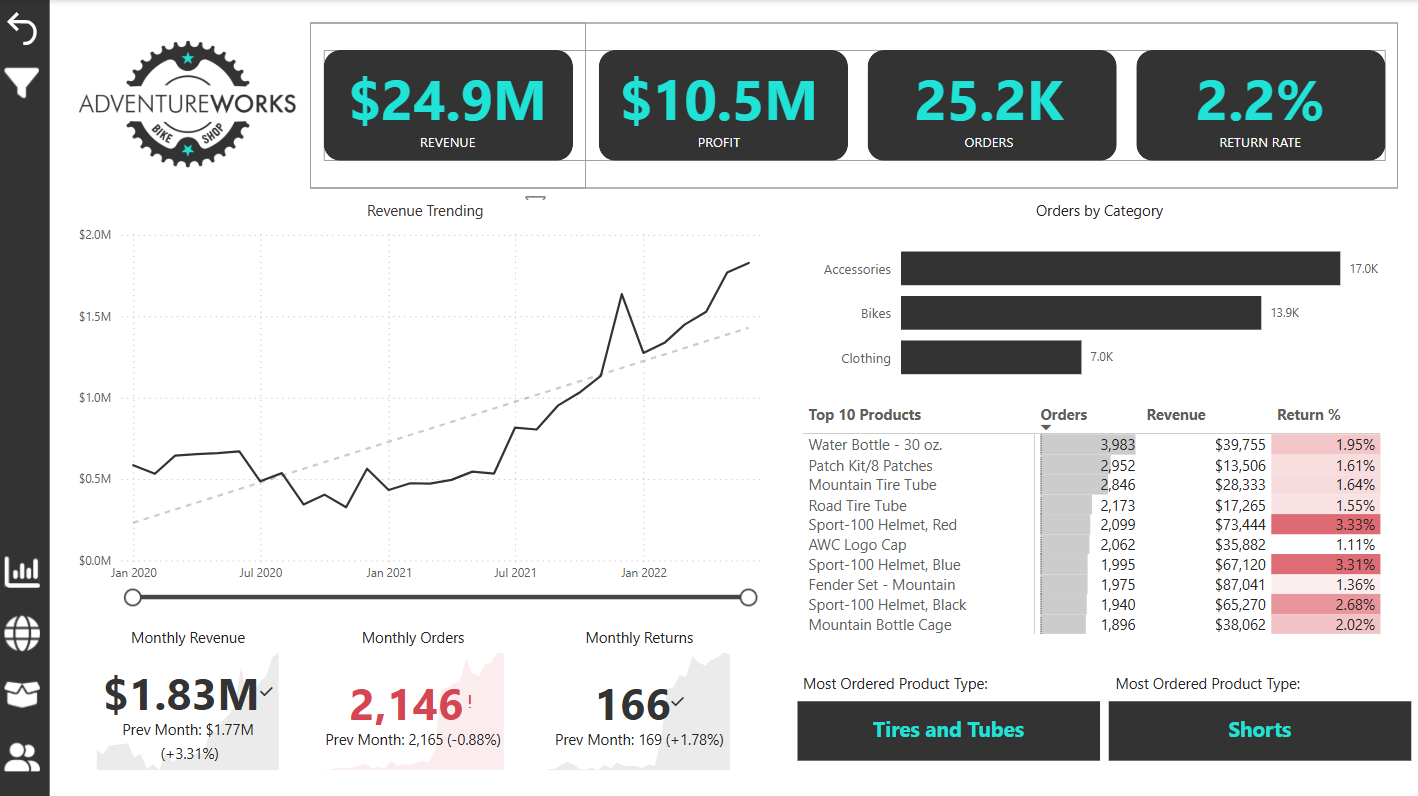

The page's visual inventory and layout, read from the dashboard file:
{"tool":"powerbi","page":{"name":"Exec Dashboard","canvas":[1280,720],"ordinal":0},"visuals":[{"type":"card","fields":{"Values":["Measure Table.Total Revenue"]},"box":[280,20,248.8,150],"z":0,"group":"g2"},{"type":"image","title":"AW Logo","box":[45,26.2,248.8,136.2],"z":0},{"type":"group","id":"g1","title":"KPI Backgrounds","box":[292.5,45,957.5,100],"z":0,"group":"g3"},{"type":"shape","box":[292.5,45,225,100],"z":0,"group":"g1"},{"type":"actionButton","box":[0.3,496.5,45.2,40.4],"z":0,"group":"g4"},{"type":"shape","title":"Left Nav Background","box":[0,0,45,720],"z":1000},{"type":"group","id":"g2","title":"KPI Values","box":[280,20,981.2,150],"z":1000,"group":"g3"},{"type":"card","fields":{"Values":["Measure Table.Return Rate"]},"box":[1012.5,20,248.8,150],"z":1000,"group":"g2"},{"type":"shape","box":[540,45,225,100],"z":1000,"group":"g1"},{"type":"actionButton","box":[0.3,607.4,45.2,40.4],"z":1000,"group":"g4"},{"type":"group","id":"g3","title":"KPIs","box":[280,20,981.2,150],"z":2000},{"type":"card","fields":{"Values":["Measure Table.Total Orders"]},"box":[768.3,20,248.8,150],"z":2000,"group":"g2"},{"type":"shape","box":[782.5,45,225,100],"z":2000,"group":"g1"},{"type":"actionButton","box":[0.3,662.8,45.2,40.4],"z":2000,"group":"g4"},{"type":"card","fields":{"Values":["Measure Table.Total Profit"]},"box":[524.2,20,248.8,150],"z":3000,"group":"g2"},{"type":"shape","box":[1025,45,225,100],"z":3000,"group":"g1"},{"type":"actionButton","box":[0.3,551.9,45.2,40.4],"z":3000,"group":"g4"},{"type":"kpi","title":"Monthly Revenue","fields":{"Indicator":["Measure Table.Total Revenue"],"TrendLine":["Calendar Lookup.Date Hierarchy.Start of Month"],"Goal":["Measure Table.Previous Month Revenue"]},"box":[82.2,565.6,174.6,134.2],"z":3000},{"type":"kpi","title":"Monthly Orders","fields":{"TrendLine":["Calendar Lookup.Date Hierarchy.Start of Month"],"Indicator":["Measure Table.Total Orders"],"Goal":["Measure Table.Previous Month Orders"]},"box":[285.7,565.6,174.6,134.2],"z":4000},{"type":"kpi","title":"Monthly Returns","fields":{"TrendLine":["Calendar Lookup.Date Hierarchy.Start of Month"],"Indicator":["Measure Table.Total Returns"],"Goal":["Measure Table.Previous Month Returns"]},"box":[489.1,565.6,174.6,134.2],"z":5000},{"type":"clusteredBarChart","title":"Orders by Category","fields":{"Category":["Product Categories Lookup.CategoryName"],"Y":["Measure Table.Total Orders"]},"box":[732.5,180,517.5,180],"z":6000},{"type":"pivotTable","fields":{"Values":["Measure Table.Total Orders","Measure Table.Total Revenue","Measure Table.Return Rate"],"Rows":["Product Lookup.ProductName"]},"box":[719,359.5,541.7,222.6],"z":7000},{"type":"card","fields":{"Values":["Min(Product Subcategories Lookup.SubcategoryName)"]},"box":[719,632.2,272.7,53.8],"z":8000},{"type":"textbox","box":[718.6,601.4,272.9,31.4],"z":9000},{"type":"card","fields":{"Values":["Min(Product Subcategories Lookup.SubcategoryName)"]},"box":[1000,632.4,272.7,53.8],"z":10000},{"type":"textbox","box":[1001.4,601.4,272.9,31.4],"z":11000},{"type":"lineChart","title":"Revenue Trending","fields":{"Y":["Measure Table.Total Revenue"],"Category":["Calendar Lookup.Year","Calendar Lookup.Start of Quarter Hierarchy.Start of Quarter","Calendar Lookup.Date Hierarchy.Start of Month"]},"box":[64.9,180.3,636.3,369.3],"z":12000},{"type":"actionButton","box":[0,6.1,45.2,40.4],"z":13000},{"type":"group","id":"g4","title":"Navigation button","box":[0.3,496.5,45.2,206.7],"z":14000},{"type":"actionButton","box":[0,55,45.2,39.1],"z":15000}]}

Visuals, with their boxes on the page's 1280x720 design canvas (x1, y1, x2, y2). These are canvas units, not pixel positions in the 1418x796 screenshot, which may show the page scaled, cropped or inside an application window:
card - Measure Table.Total Revenue: {"left": 280, "top": 20, "right": 529, "bottom": 170}
"AW Logo" image: {"left": 45, "top": 26, "right": 294, "bottom": 162}
"KPI Backgrounds" group: {"left": 292, "top": 45, "right": 1250, "bottom": 145}
shape: {"left": 292, "top": 45, "right": 518, "bottom": 145}
actionButton: {"left": 0, "top": 496, "right": 46, "bottom": 537}
"Left Nav Background" shape: {"left": 0, "top": 0, "right": 45, "bottom": 720}
"KPI Values" group: {"left": 280, "top": 20, "right": 1261, "bottom": 170}
card - Measure Table.Return Rate: {"left": 1012, "top": 20, "right": 1261, "bottom": 170}
shape: {"left": 540, "top": 45, "right": 765, "bottom": 145}
actionButton: {"left": 0, "top": 607, "right": 46, "bottom": 648}
"KPIs" group: {"left": 280, "top": 20, "right": 1261, "bottom": 170}
card - Measure Table.Total Orders: {"left": 768, "top": 20, "right": 1017, "bottom": 170}
shape: {"left": 782, "top": 45, "right": 1008, "bottom": 145}
actionButton: {"left": 0, "top": 663, "right": 46, "bottom": 703}
card - Measure Table.Total Profit: {"left": 524, "top": 20, "right": 773, "bottom": 170}
shape: {"left": 1025, "top": 45, "right": 1250, "bottom": 145}
actionButton: {"left": 0, "top": 552, "right": 46, "bottom": 592}
"Monthly Revenue" kpi: {"left": 82, "top": 566, "right": 257, "bottom": 700}
"Monthly Orders" kpi: {"left": 286, "top": 566, "right": 460, "bottom": 700}
"Monthly Returns" kpi: {"left": 489, "top": 566, "right": 664, "bottom": 700}
"Orders by Category" clusteredBarChart: {"left": 732, "top": 180, "right": 1250, "bottom": 360}
pivotTable - Measure Table.Total Orders x Measure Table.Total Revenue: {"left": 719, "top": 360, "right": 1261, "bottom": 582}
card - Min(Product Subcategories Lookup.SubcategoryName): {"left": 719, "top": 632, "right": 992, "bottom": 686}
textbox: {"left": 719, "top": 601, "right": 992, "bottom": 633}
card - Min(Product Subcategories Lookup.SubcategoryName): {"left": 1000, "top": 632, "right": 1273, "bottom": 686}
textbox: {"left": 1001, "top": 601, "right": 1274, "bottom": 633}
"Revenue Trending" lineChart: {"left": 65, "top": 180, "right": 701, "bottom": 550}
actionButton: {"left": 0, "top": 6, "right": 45, "bottom": 46}
"Navigation button" group: {"left": 0, "top": 496, "right": 46, "bottom": 703}
actionButton: {"left": 0, "top": 55, "right": 45, "bottom": 94}
